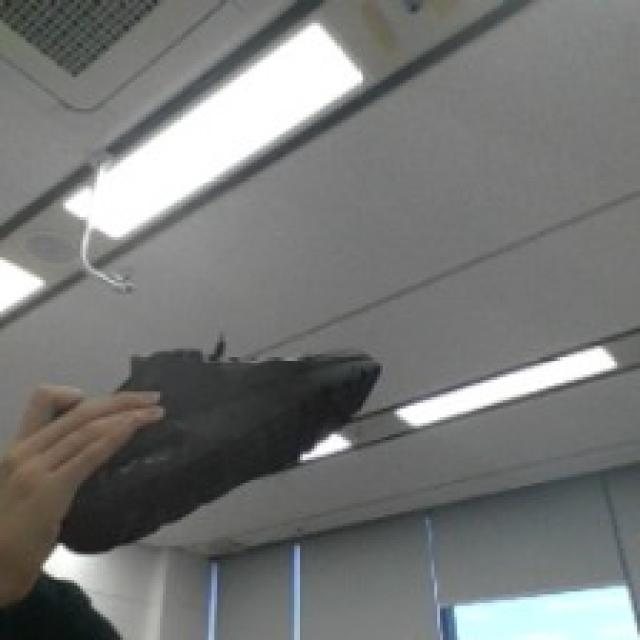shoe: (37, 345, 382, 558)
